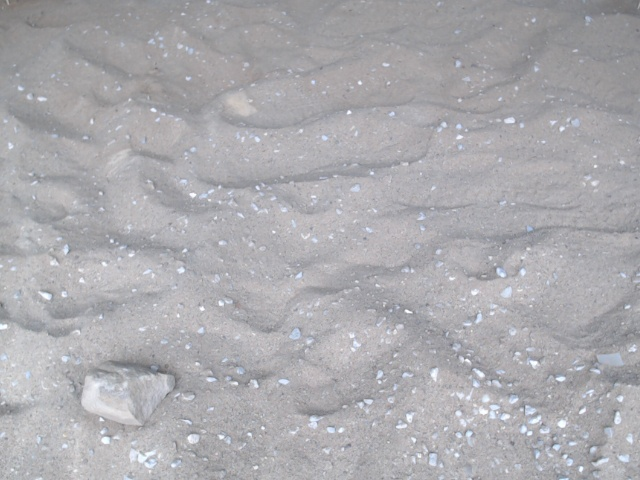rock: (74, 355, 183, 434)
